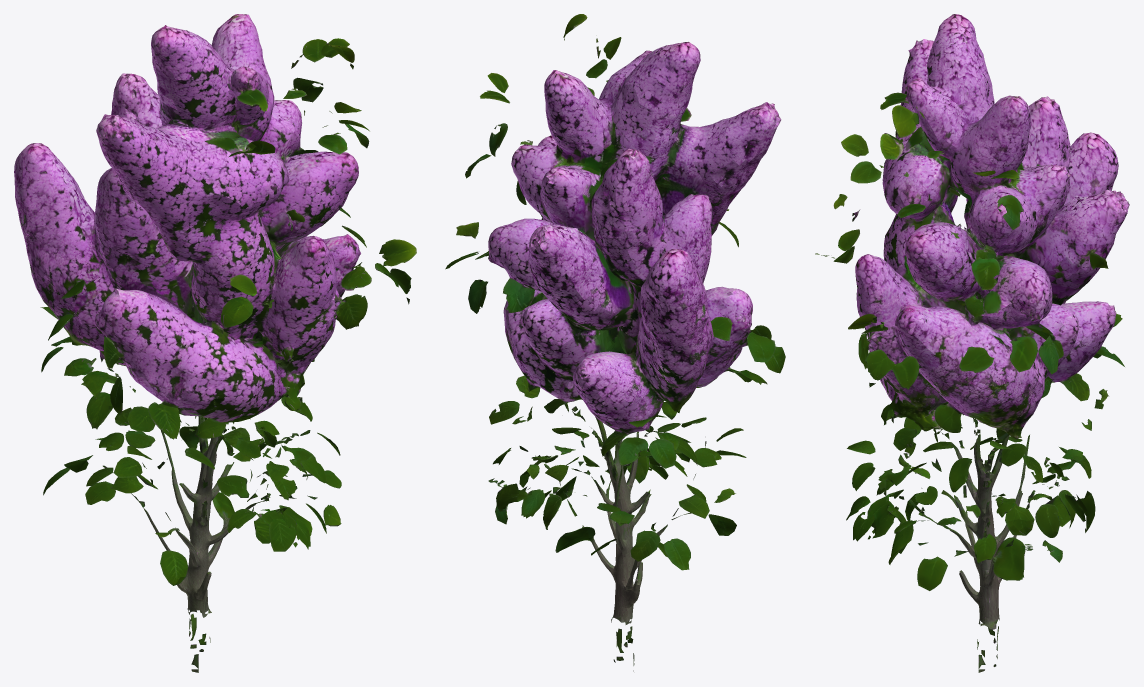
Rendered from veg_shrub_lilac_01.glb.
The picture shows the model from 3 angles, left to right: view 1: azimuth 30°, elevation 25°; view 2: azimuth 150°, elevation 25°; view 3: azimuth 270°, elevation 25°; orthographic projection. The views are drawn at different scales.
Visible parts, largest first — view 1: veg_shrub_lilac_01; view 2: veg_shrub_lilac_01; view 3: veg_shrub_lilac_01.
Boxes of the visible parts, x1,y1,x2,y2 form: veg_shrub_lilac_01: (14, 14, 416, 672); veg_shrub_lilac_01: (445, 14, 785, 671); veg_shrub_lilac_01: (815, 14, 1129, 672).
Size of the model in its own units: 3.16 by 6.25 by 2.8.
1 material, 1 textured.
